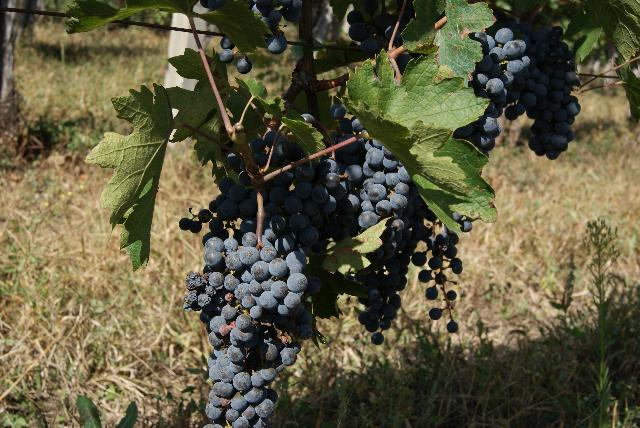grapes: (185, 216, 321, 428), (338, 139, 436, 345), (512, 22, 580, 160)
